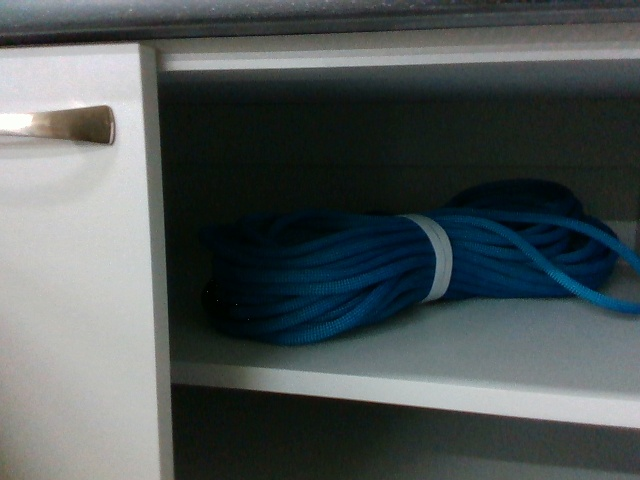rope: (241, 203, 640, 337)
